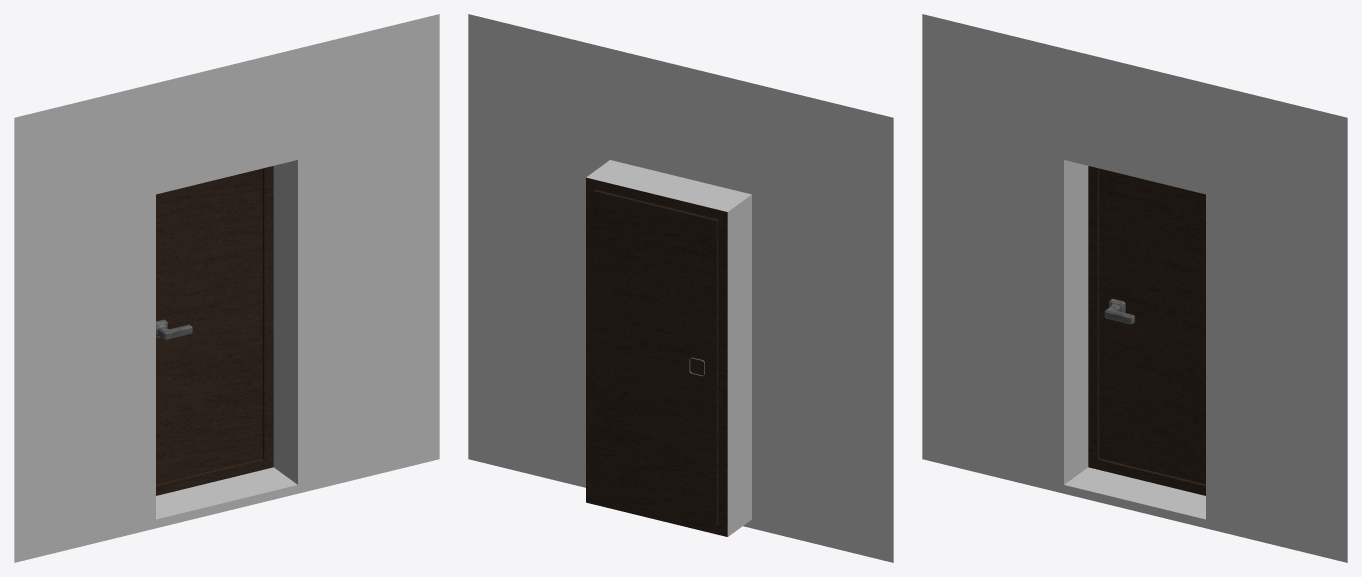
Rendered from Test wall.fbx.
3 renders of one model, left to right at view 1: azimuth 30°, elevation 25°; view 2: azimuth 150°, elevation 25°; view 3: azimuth 330°, elevation 25°, orthographic.
Visible parts, largest first — view 1: Segment 1.005; view 2: Segment 1.005; view 3: Segment 1.005.
Boxes of the visible parts, x1,y1,x2,y2 form: Segment 1.005: (14, 14, 439, 562); Segment 1.005: (468, 14, 893, 562); Segment 1.005: (922, 14, 1347, 562).
Bounding box in the file's own units: 600 × 600 × 65.63.
